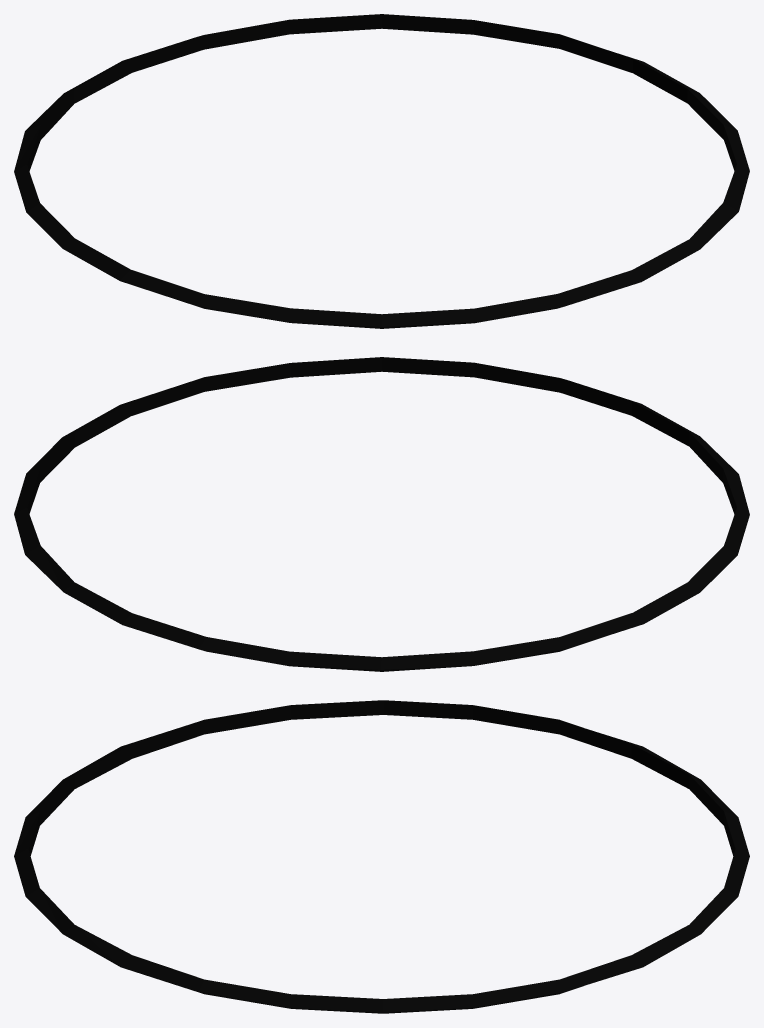
File: Roda.glb
3 views of the same model, one above another, from view 1: azimuth 30°, elevation 25°; view 2: azimuth 150°, elevation 25°; view 3: azimuth 270°, elevation 25° (orthographic).
Visible parts, largest first — view 1: Roda; view 2: Roda; view 3: Roda.
Boxes of the visible parts, bbox=[...] form: Roda: bbox=[14, 14, 749, 328]; Roda: bbox=[14, 357, 749, 671]; Roda: bbox=[14, 700, 749, 1013].
Bounding box in the file's own units: 541 × 11.95 × 541.
Materials: 1 (1 with a texture image).
